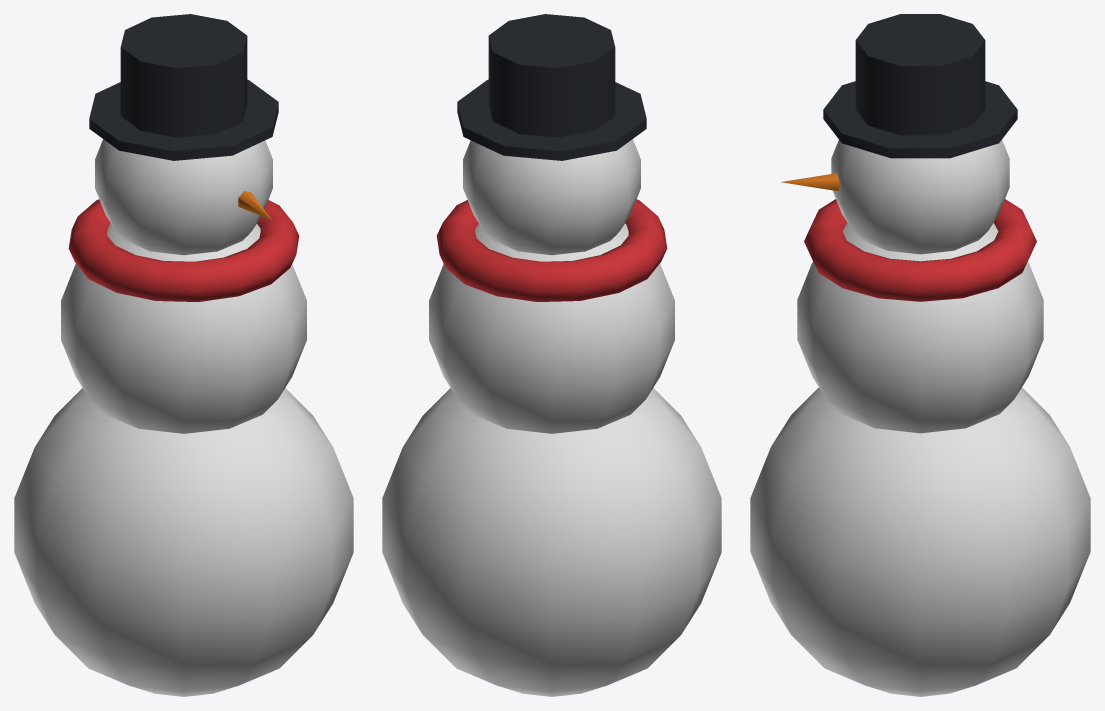
Rendered from snowman.glb.
The picture shows the model from 3 angles, left to right: view 1: azimuth 30°, elevation 25°; view 2: azimuth 150°, elevation 25°; view 3: azimuth 270°, elevation 25°; orthographic projection.
Parts seen in each view (by area): view 1: Snowman; view 2: Snowman; view 3: Snowman.
Part boxes in pixels (x1,y1,x2,y2): Snowman: (14,14,353,696); Snowman: (382,14,721,696); Snowman: (750,14,1090,696).
Size of the model in its own units: 1.58 by 3.28 by 1.58.
